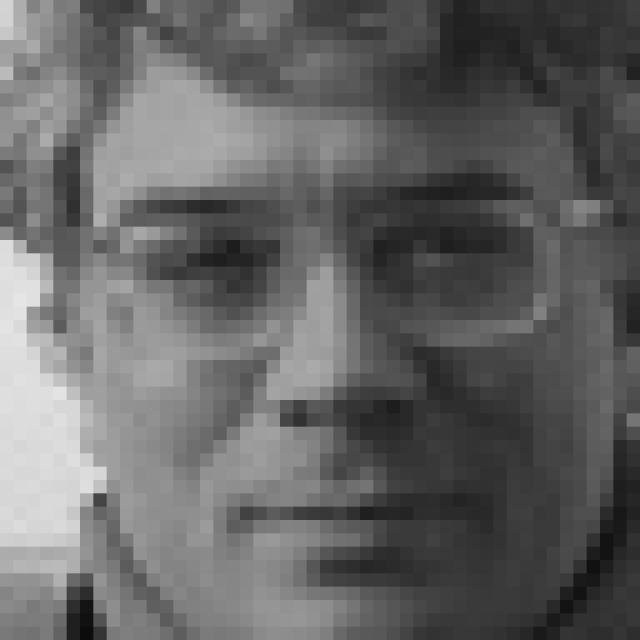neutral: (98, 168, 550, 581)
